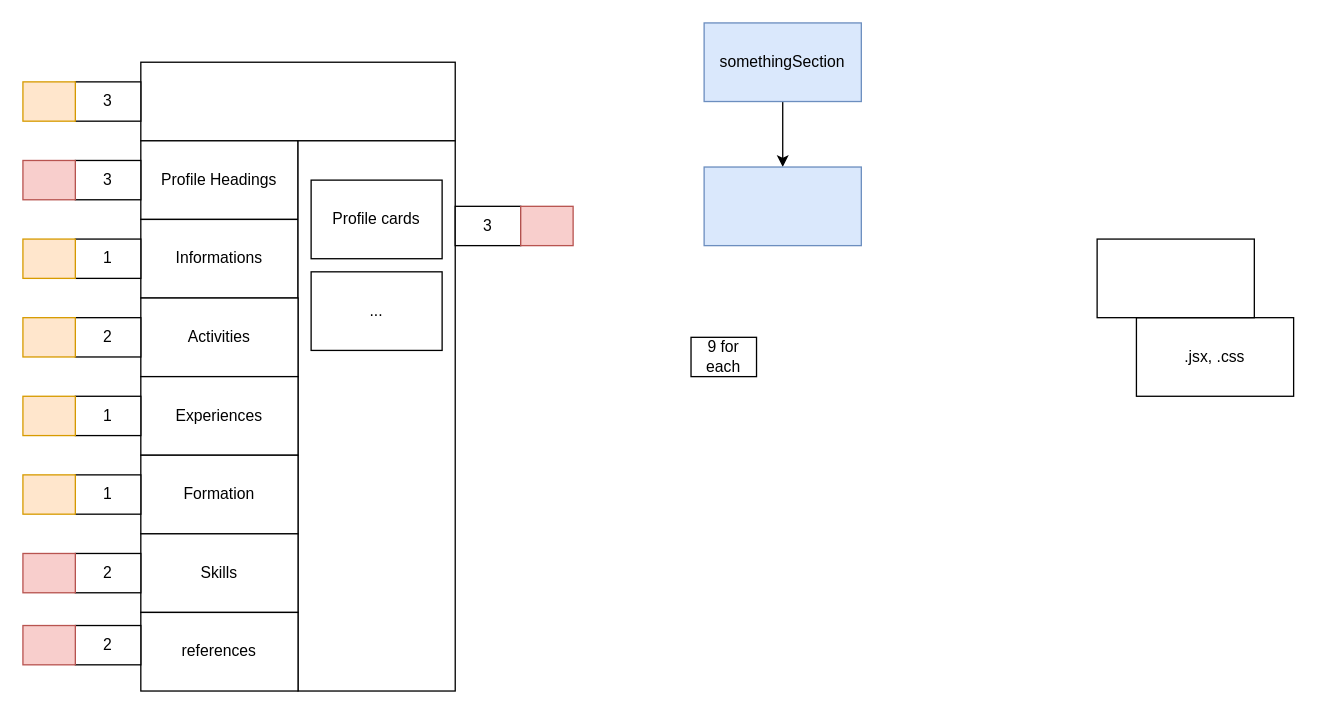
The diagram is 1317 pixels wide and 714 high, and some of its shapes have lost their labels. Here are the shapes that lost their labels. From the top down, the box of each, then its label:
(140, 61, 455, 141): Navbar
(703, 166, 861, 246): somethingElement
(297, 140, 455, 691): Sidebar cards
